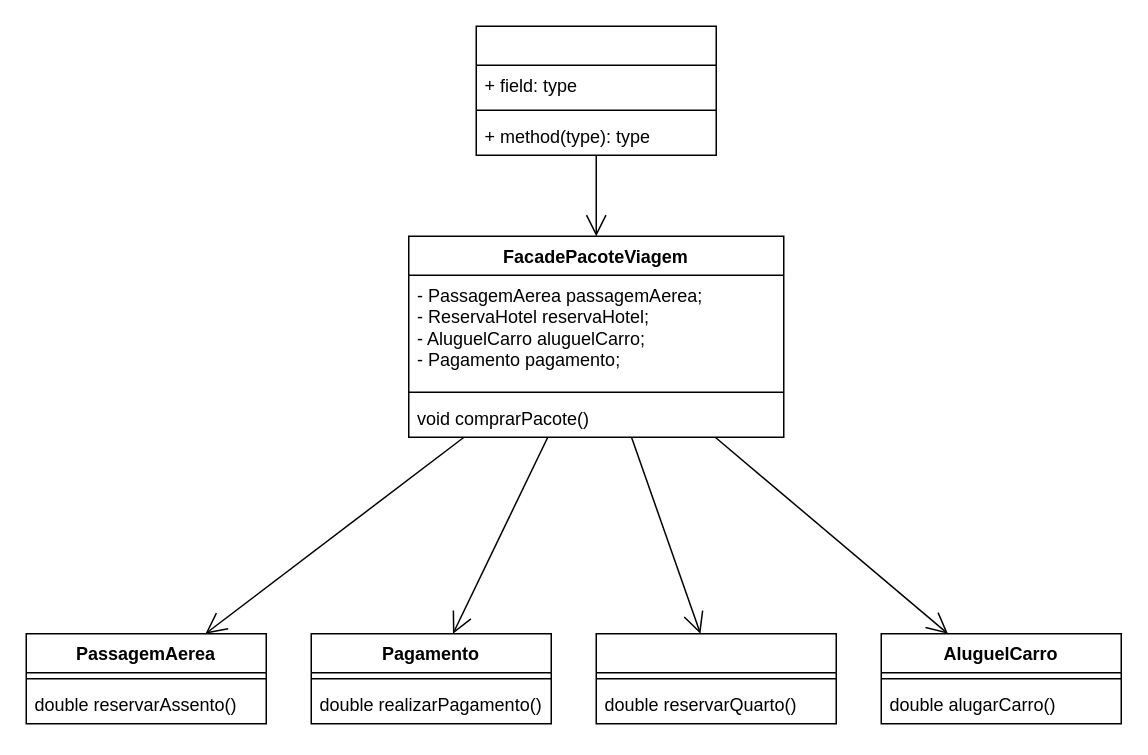
The diagram is 1148 pixels wide and 755 high, and some of its shapes have lost their labels. Each missing label, with the box of its shape:
Main: (475, 25, 716, 155)
ReservaHotel: (595, 632, 836, 724)
